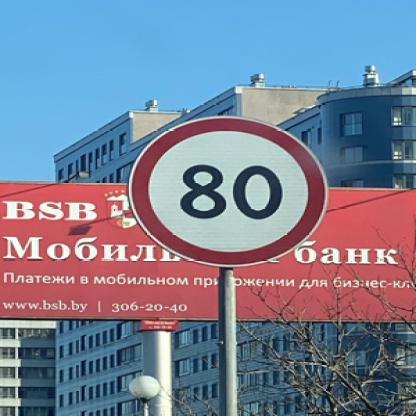speedlimit: (126, 115, 327, 266)
